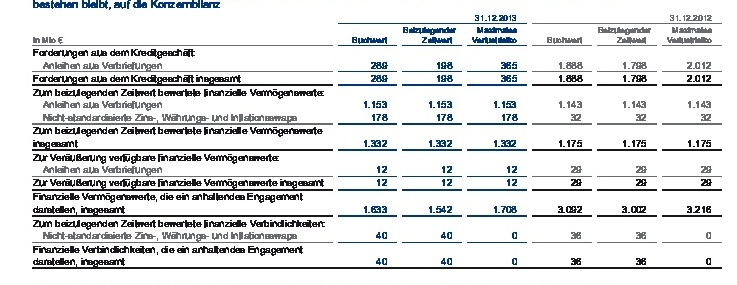table: (0, 0, 737, 285)
